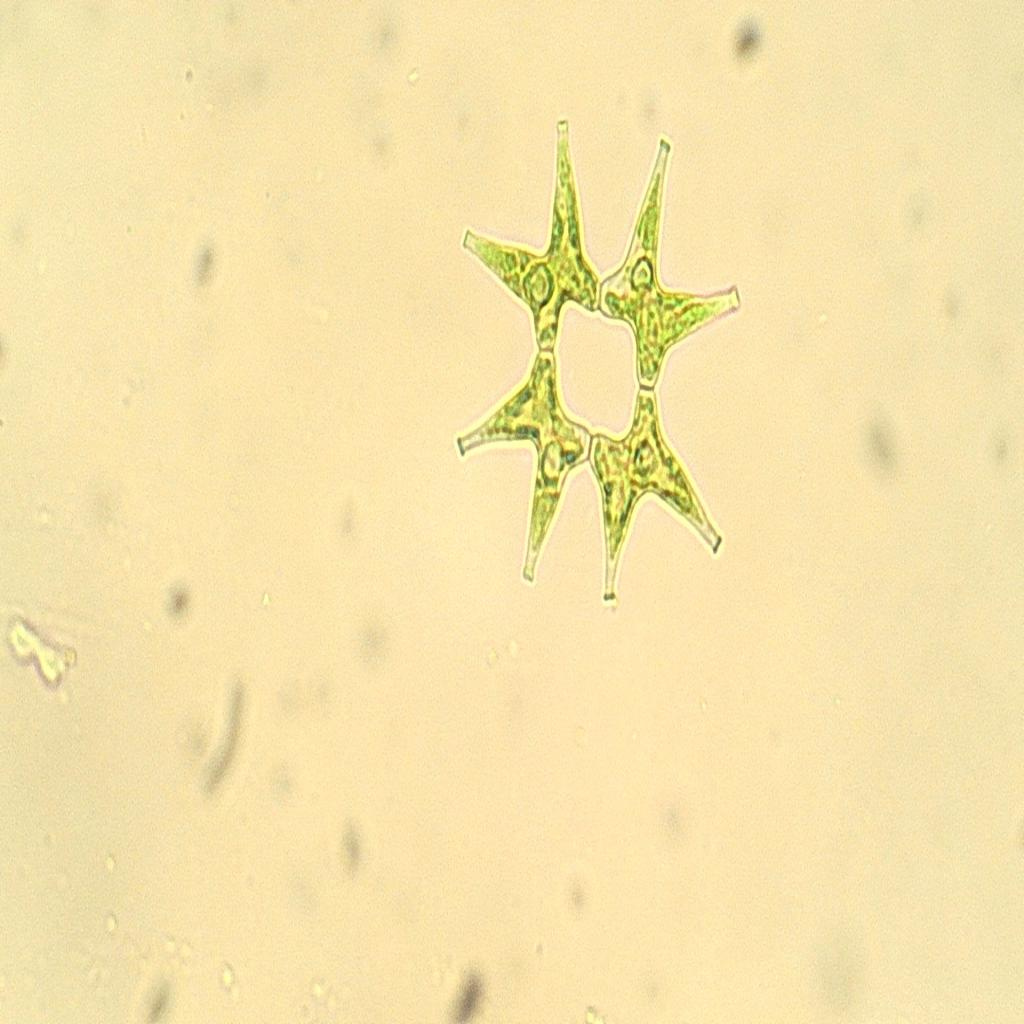Pediastrum_CO: (437, 100, 747, 625)
